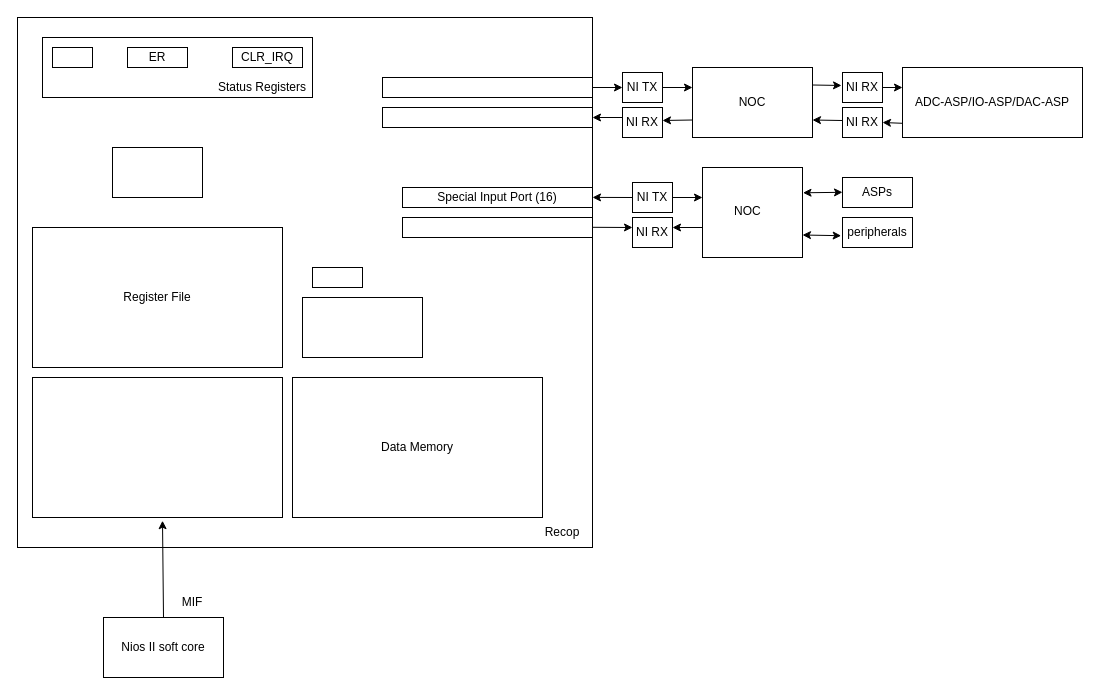
This 1100x695 diagram has some shape labels left out. The shapes that lost their labels are listed below. From the top down, each one's box as (x1, y1, x2, y2) in pixels, then its label:
(52, 46, 92, 68): EOT
(382, 76, 592, 98): Data Processing Control Register(16)
(382, 106, 592, 128): Data Processing Result Register[2:0]
(112, 146, 202, 198): Control Unit
(402, 216, 592, 238): Special Output Port（16）
(312, 266, 362, 288): Z(1)
(302, 296, 422, 358): ALU
(32, 376, 282, 518): Program Memory
